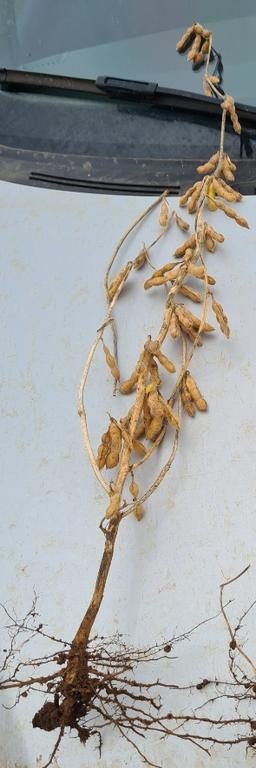pod: (215, 199, 254, 230), (105, 421, 122, 469), (212, 300, 231, 339), (194, 150, 221, 176), (104, 493, 120, 519), (158, 200, 168, 226), (127, 480, 139, 500), (133, 506, 147, 522), (176, 215, 189, 231)
soy: (74, 7, 256, 742)
